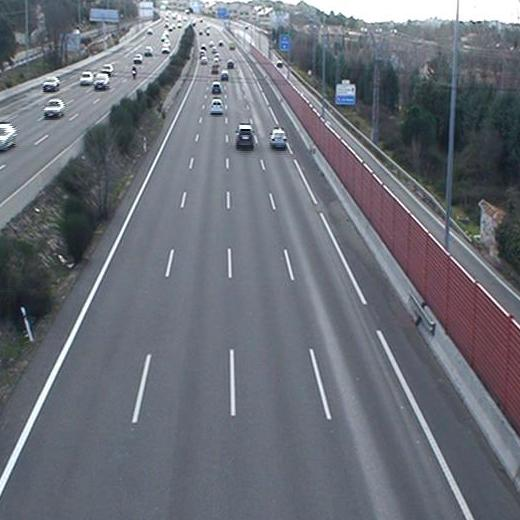car: (235, 124, 254, 148), (269, 129, 287, 150), (210, 99, 223, 114), (213, 81, 221, 94), (221, 70, 228, 80), (211, 63, 218, 73)
